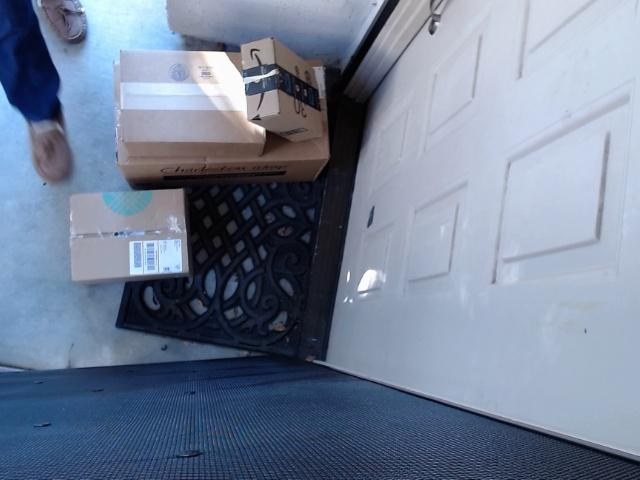box: (99, 28, 336, 195), (116, 32, 278, 163), (59, 178, 199, 290), (235, 29, 322, 142)
